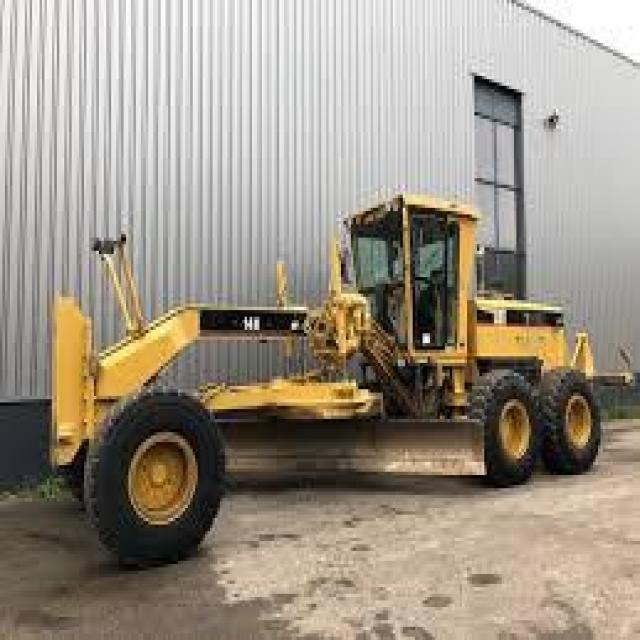buldozerpayloadergrader: (35, 175, 628, 584)
